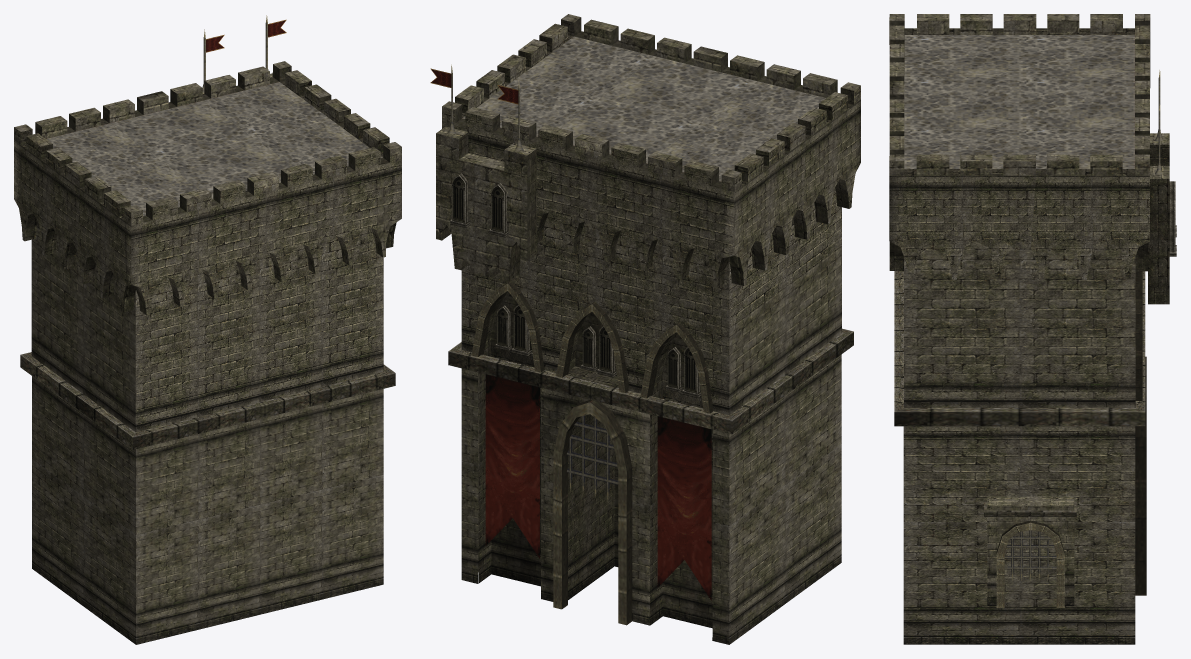
Rendered from shijieditu_06.FBX.
The picture shows the model from 3 angles, left to right: view 1: azimuth 30°, elevation 25°; view 2: azimuth 150°, elevation 25°; view 3: azimuth 270°, elevation 25°; orthographic projection. The views are drawn at different scales.
Parts seen in each view (by area): view 1: shijieditu_06; view 2: shijieditu_06; view 3: shijieditu_06.
Part boxes in pixels (x1=…): shijieditu_06: x1=14, y1=15, x2=401, y2=644; shijieditu_06: x1=430, y1=14, x2=860, y2=644; shijieditu_06: x1=889, y1=14, x2=1176, y2=644.
Bounding box in the file's own units: 29.22 × 48.7 × 23.36.
